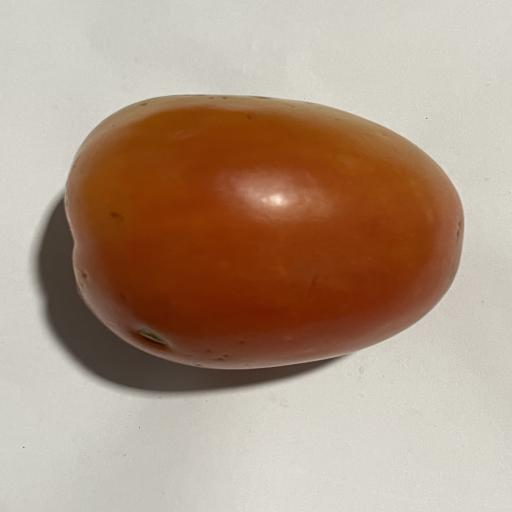unripe: (65, 94, 464, 369)
